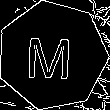M_N: (28, 30, 77, 81)
